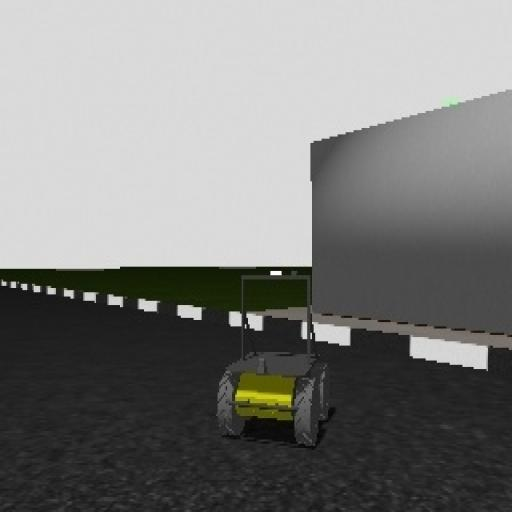huskya200: (208, 252, 342, 464)
